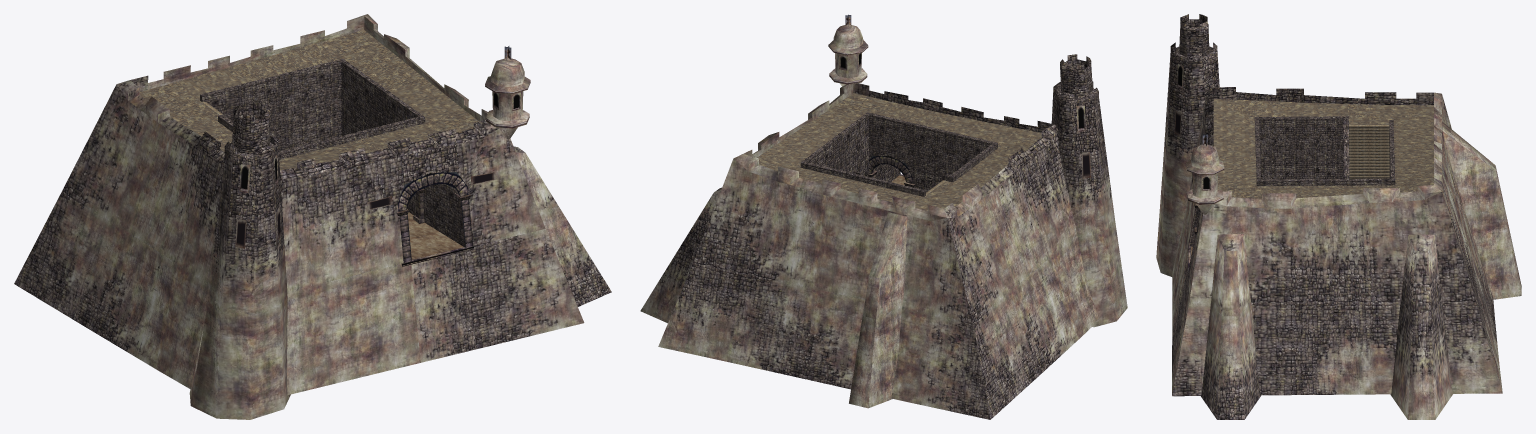
The model's file is fort_small.fbx.
3 renders of one model, left to right at view 1: azimuth 30°, elevation 25°; view 2: azimuth 150°, elevation 25°; view 3: azimuth 270°, elevation 25°, orthographic. The views are drawn at different scales.
Parts seen in each view (by area): view 1: exterior_walls3, khsmallfort:large_tower7, exterior_walls2, floor, exterior_walls1, butress2, khsmallfort:corner_tower3, ground, khsmallfort:polySurface468; view 2: exterior_walls3, khsmallfort:large_tower7, floor, exterior_walls2, exterior_walls1, butress1, butress3, khsmallfort:corner_tower3, khsmallfort:polySurface463; view 3: exterior_walls3, floor, butress3, butress2, khsmallfort:large_tower7, exterior_walls2, exterior_walls1, butress1, polySurface516, khsmallfort:corner_tower3.
Part boxes in pixels (left/top/right/bottom): exterior_walls3: left=14, top=84, right=584, bottom=395; khsmallfort:large_tower7: left=189, top=102, right=290, bottom=419; exterior_walls2: left=200, top=59, right=465, bottom=247; floor: left=139, top=30, right=478, bottom=170; exterior_walls1: left=116, top=14, right=498, bottom=179; butress2: left=513, top=146, right=611, bottom=306; khsmallfort:corner_tower3: left=485, top=58, right=530, bottom=139; ground: left=407, top=212, right=463, bottom=259; khsmallfort:polySurface468: left=398, top=172, right=468, bottom=211; exterior_walls3: left=658, top=134, right=1099, bottom=419; khsmallfort:large_tower7: left=1051, top=54, right=1127, bottom=327; floor: left=757, top=93, right=1041, bottom=210; exterior_walls2: left=800, top=112, right=997, bottom=196; exterior_walls1: left=733, top=83, right=1058, bottom=220; butress1: left=849, top=212, right=907, bottom=408; butress3: left=640, top=187, right=721, bottom=323; khsmallfort:corner_tower3: left=828, top=24, right=868, bottom=86; khsmallfort:polySurface463: left=869, top=156, right=912, bottom=183; exterior_walls3: left=1172, top=94, right=1502, bottom=396; floor: left=1213, top=98, right=1433, bottom=198; butress3: left=1390, top=234, right=1452, bottom=419; butress2: left=1201, top=234, right=1261, bottom=419; khsmallfort:large_tower7: left=1156, top=14, right=1219, bottom=276; exterior_walls2: left=1189, top=116, right=1395, bottom=246; exterior_walls1: left=1205, top=87, right=1441, bottom=208; butress1: left=1442, top=122, right=1521, bottom=299; polySurface516: left=1349, top=125, right=1389, bottom=178; khsmallfort:corner_tower3: left=1186, top=144, right=1224, bottom=214.
Size of the model in its own units: 16080 by 10062 by 13396.
7 materials, 7 textured.
